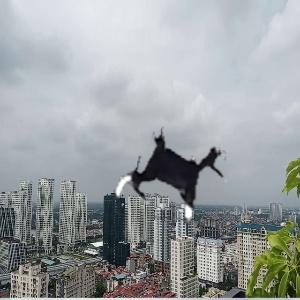drone: (110, 117, 237, 244)
